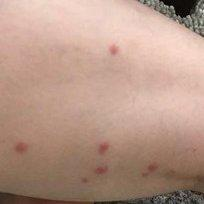Fleas: (142, 162, 159, 179), (12, 139, 29, 154), (94, 163, 108, 175), (98, 142, 109, 154), (108, 43, 118, 55), (165, 168, 177, 174)
